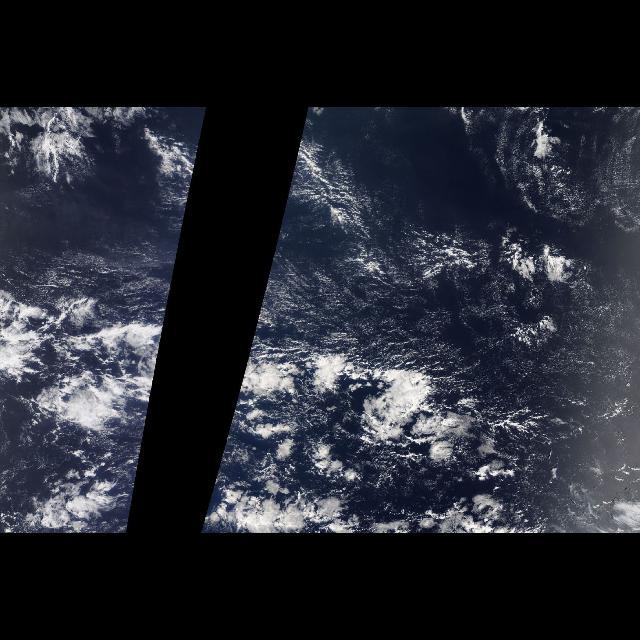Sugar: (245, 112, 639, 372), (64, 134, 202, 366)
